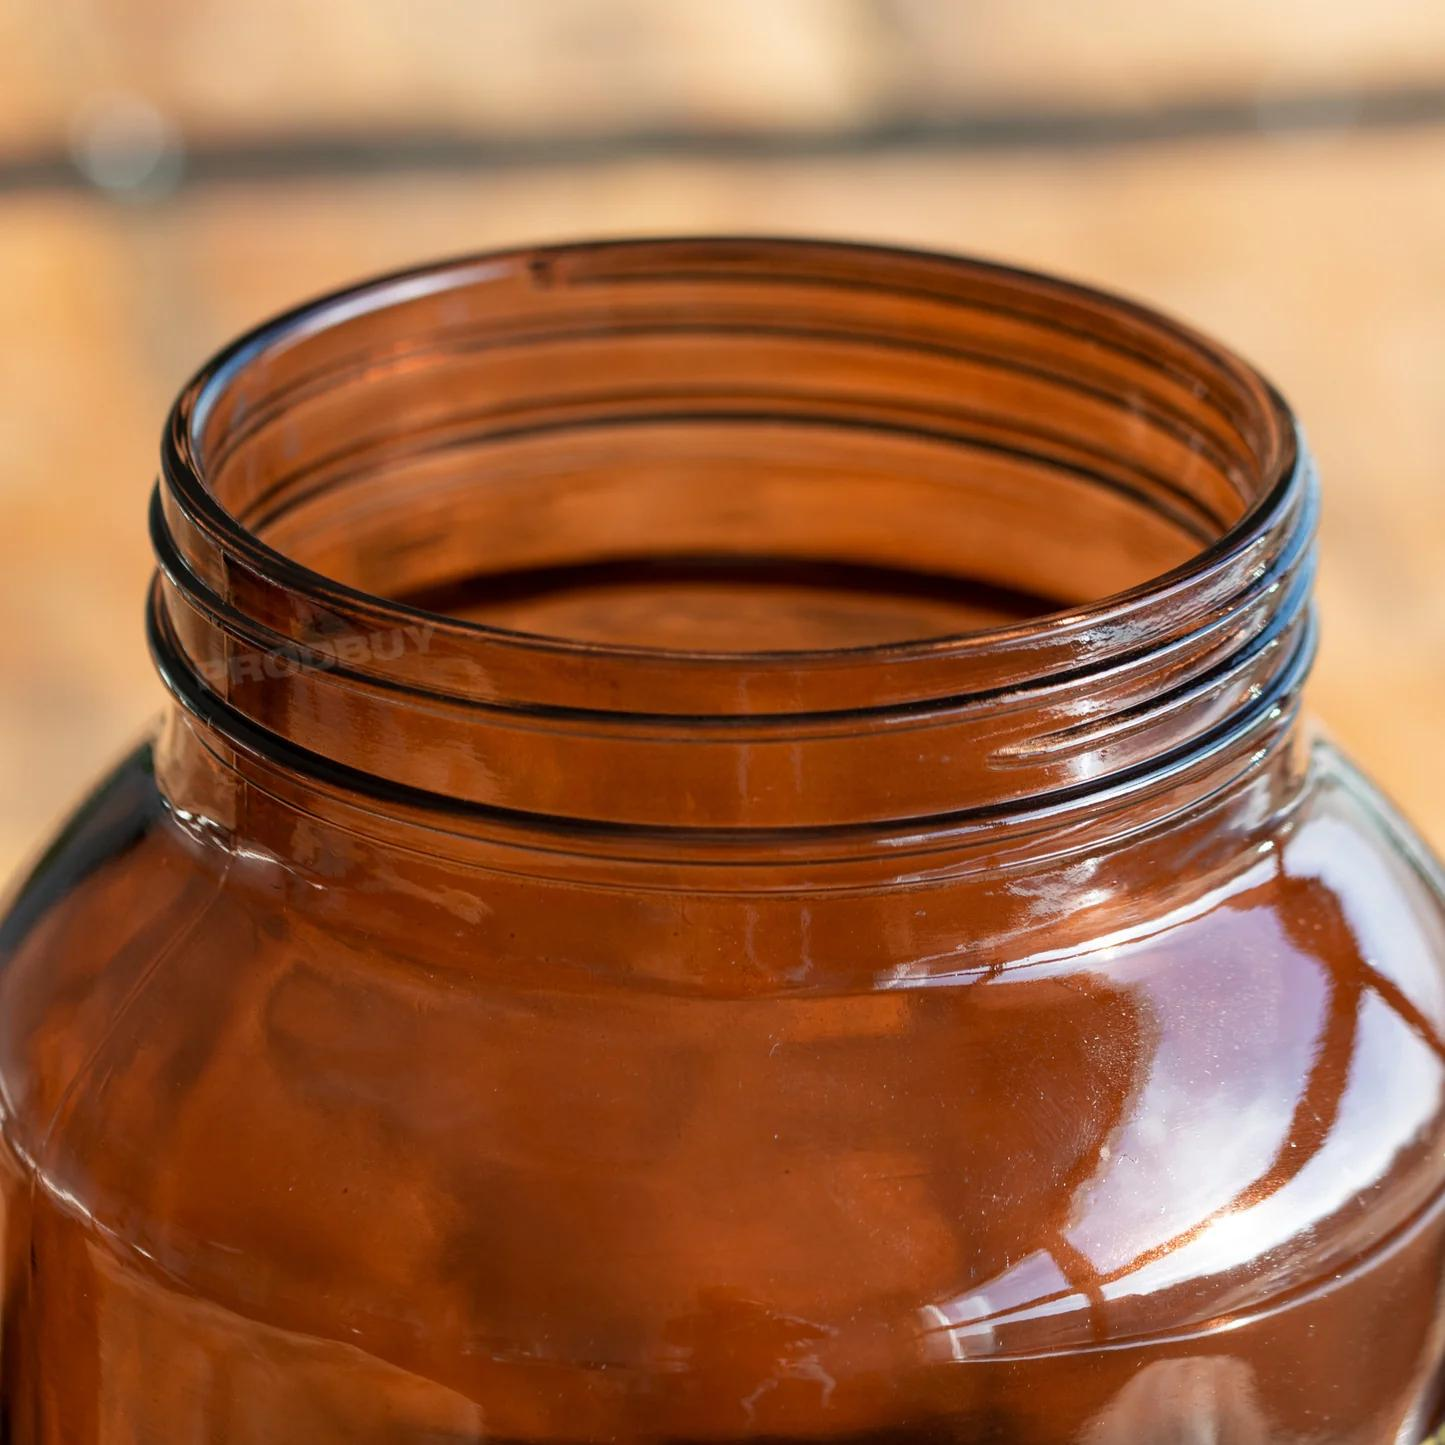glass: (0, 225, 1445, 1445)
